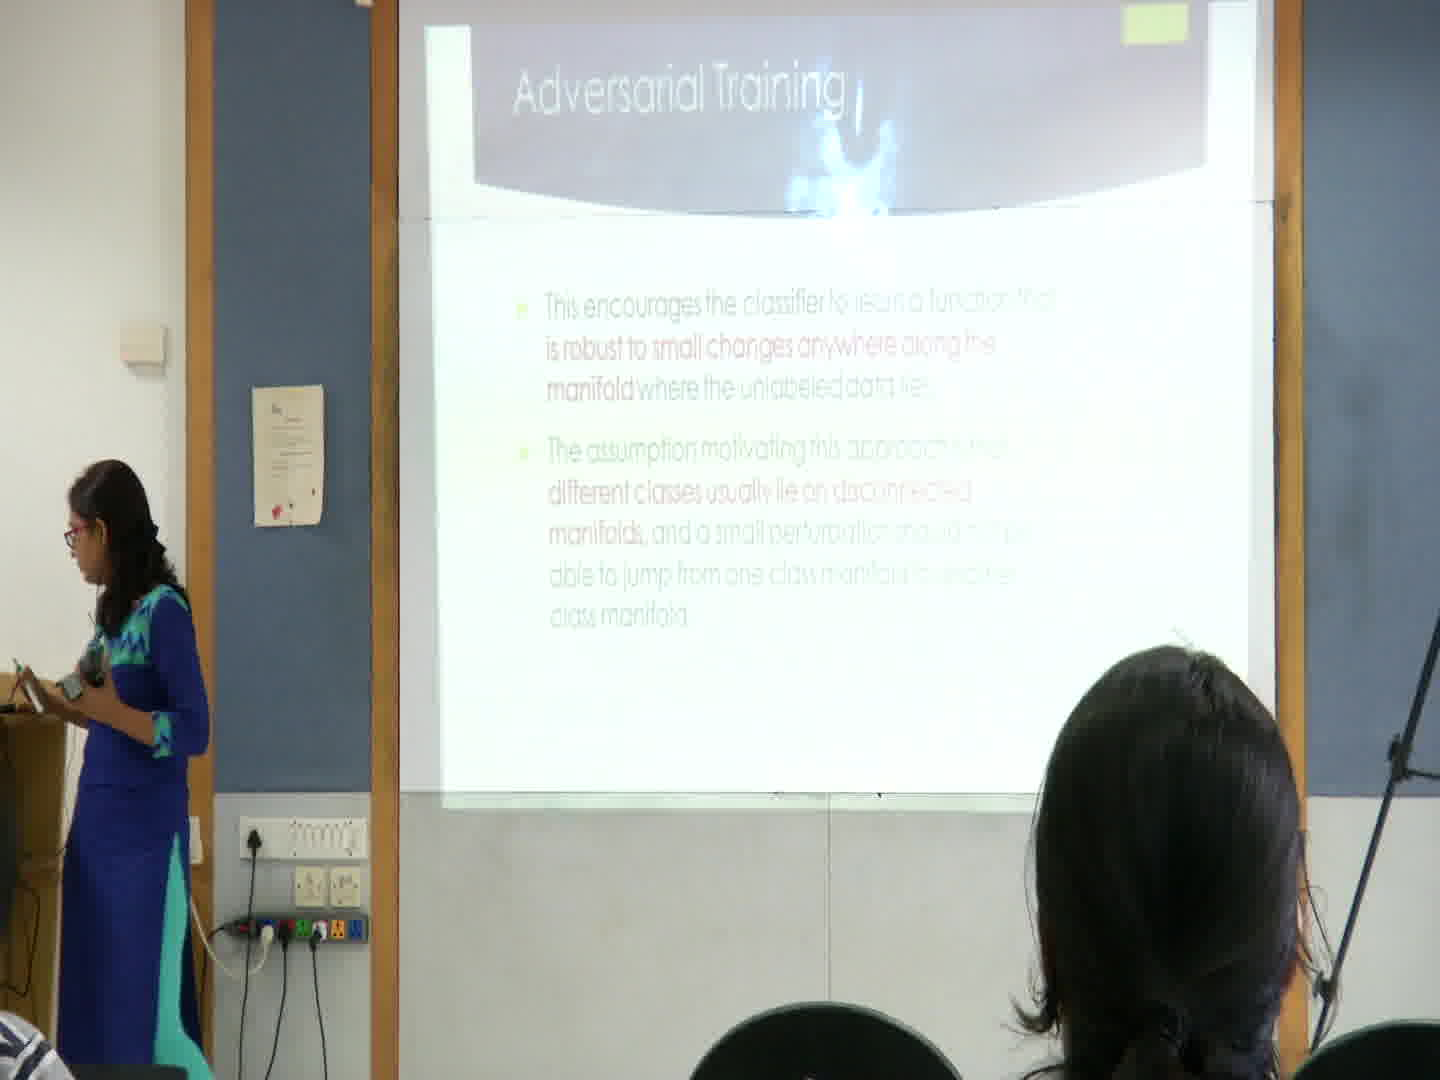slide: (425, 5, 1254, 810)
